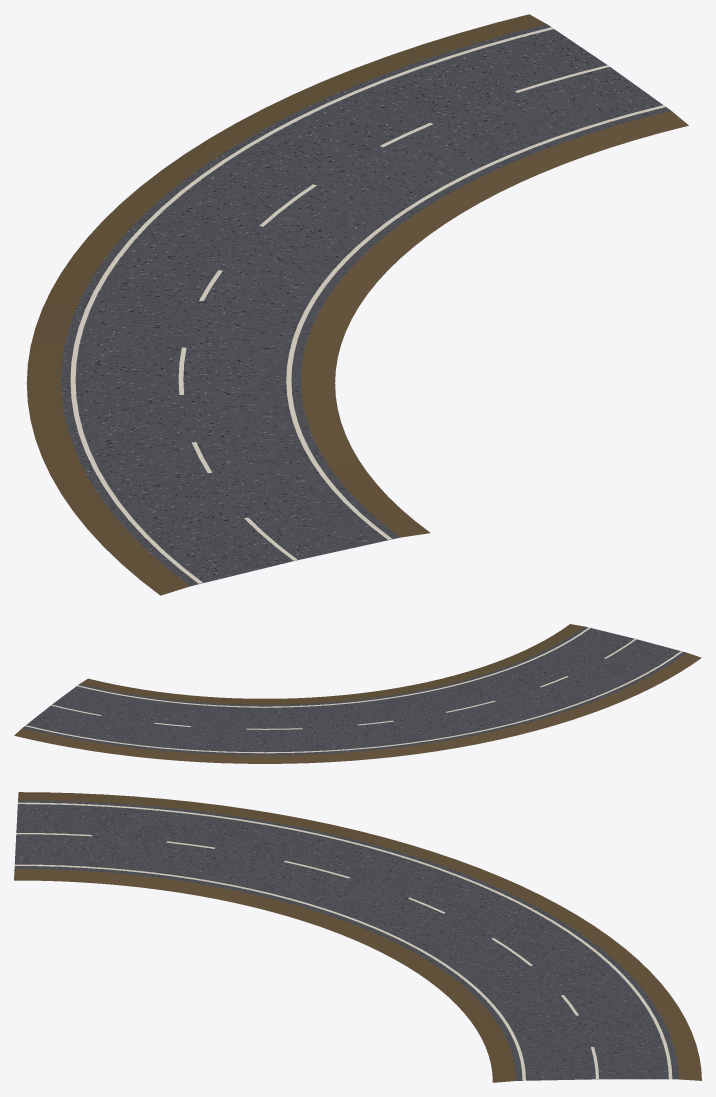
The model's file is ENV_Road_AsphaltCurve90.fbx.
3 renders of one model, top to bottom at view 1: azimuth 30°, elevation 25°; view 2: azimuth 150°, elevation 25°; view 3: azimuth 270°, elevation 25°, orthographic. The views are drawn at different scales.
Visible parts, largest first — view 1: ENV_Road_AsphaltCurve90_Surface, ENV_Road_AsphaltCurve90_Surface_Edges; view 2: ENV_Road_AsphaltCurve90_Surface, ENV_Road_AsphaltCurve90_Surface_Edges; view 3: ENV_Road_AsphaltCurve90_Surface, ENV_Road_AsphaltCurve90_Surface_Edges.
Boxes of the visible parts, x1,y1,x2,y2 form: ENV_Road_AsphaltCurve90_Surface: (61, 24, 670, 586); ENV_Road_AsphaltCurve90_Surface_Edges: (26, 14, 688, 595); ENV_Road_AsphaltCurve90_Surface: (22, 626, 686, 755); ENV_Road_AsphaltCurve90_Surface_Edges: (14, 624, 701, 763); ENV_Road_AsphaltCurve90_Surface: (14, 800, 678, 1080); ENV_Road_AsphaltCurve90_Surface_Edges: (14, 792, 701, 1082).
Bounding box in the file's own units: 29.6 × 0.132 × 29.6.
2 materials, 1 textured.
